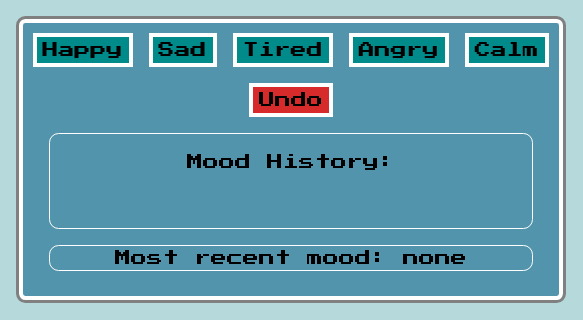
Test: MoodTracker - undoMood › removes the most recent mood when undo is clicked
This screenshot has width=583, height=320.
Click the button "Happy": [83, 50] box x1=33 y1=33 x2=133 y2=67
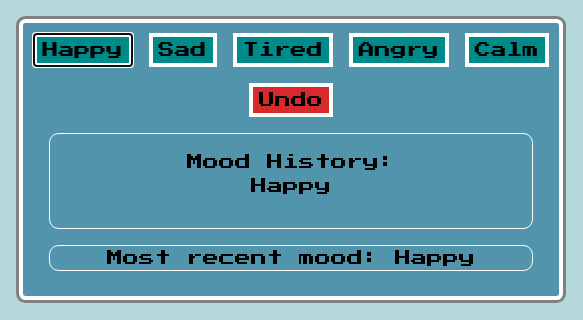
Click the button "Sad": [183, 50] box x1=149 y1=33 x2=217 y2=67
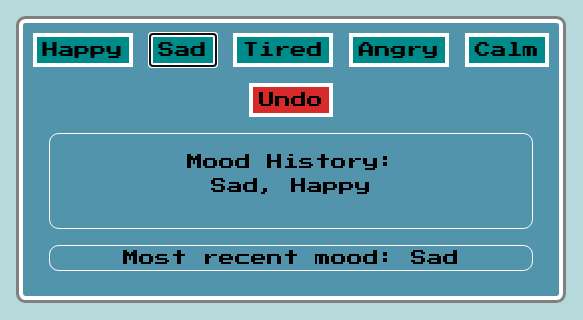
Expected: the text "Most recent mood: Sad" is shown, x1=123 y1=250 x2=459 y2=266
Click the button "Undo": [291, 100] box x1=249 y1=83 x2=333 y2=117
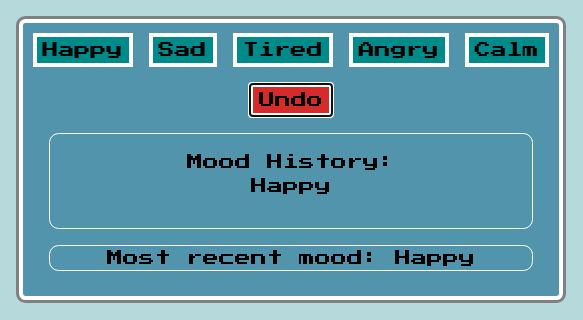
Expected: the text "Most recent mood: Happy" is shown, x1=107 y1=250 x2=475 y2=266
